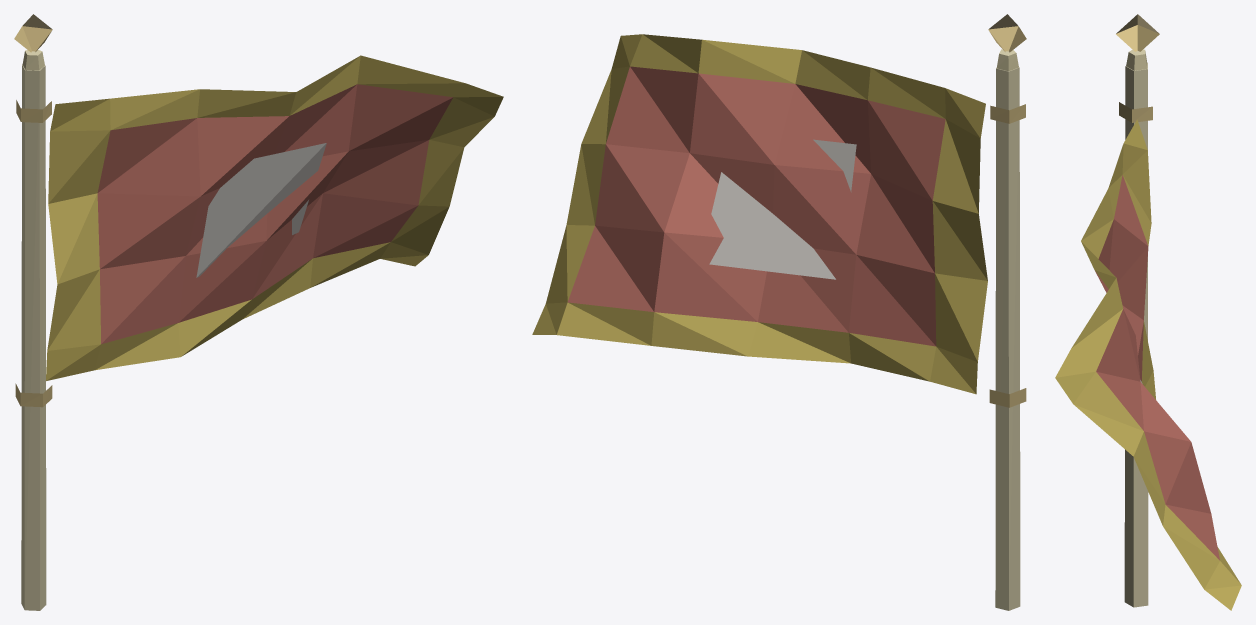
Rendered from flag.rect.chizhi__pole.stick.mugun__masthead.glb.
3 renders of one model, left to right at view 1: azimuth 30°, elevation 25°; view 2: azimuth 150°, elevation 25°; view 3: azimuth 270°, elevation 25°, orthographic.
Visible parts, largest first — view 1: flag.rect.chizhi; view 2: flag.rect.chizhi; view 3: flag.rect.chizhi.
Boxes of the visible parts, left/top/right/bottom form: flag.rect.chizhi: left=14, top=14, right=503, bottom=610; flag.rect.chizhi: left=532, top=14, right=1026, bottom=610; flag.rect.chizhi: left=1055, top=14, right=1241, bottom=610.
Bounding box in the file's own units: 1.65 × 2.08 × 0.5998.
